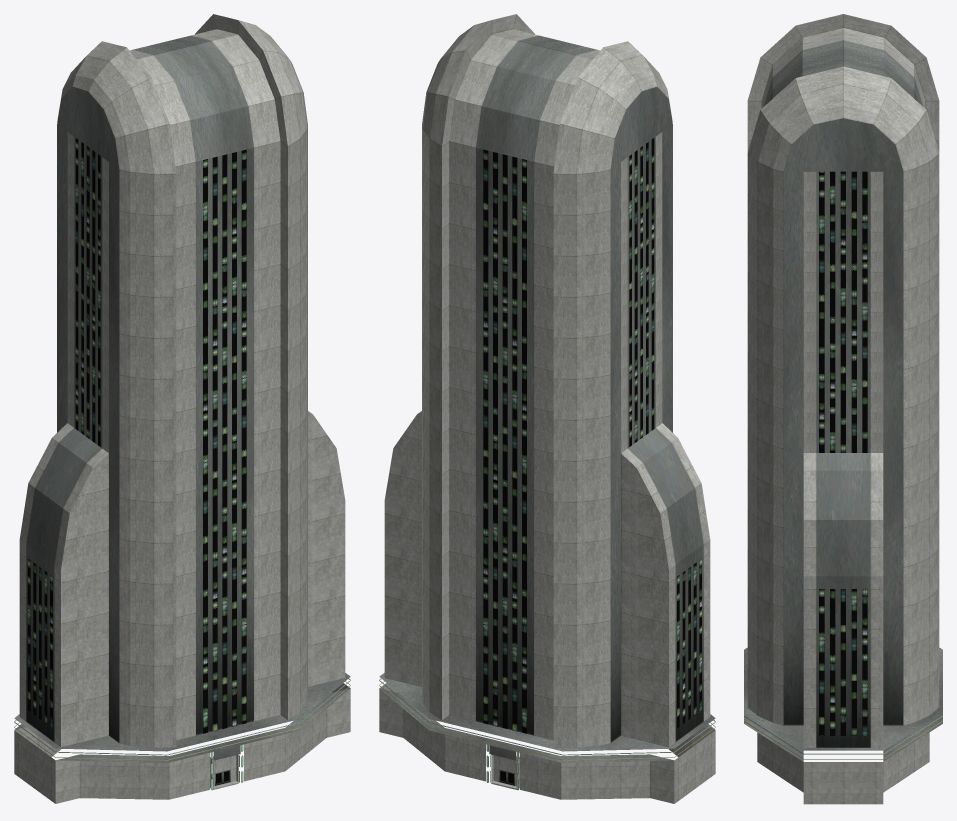
File: thm_corl_skyskraper_s03_l1.fbx
3 views of the same model, side by side, from view 1: azimuth 30°, elevation 25°; view 2: azimuth 150°, elevation 25°; view 3: azimuth 270°, elevation 25° (orthographic). The views are drawn at different scales.
Parts seen in each view (by area): view 1: mesh_node; view 2: mesh_node; view 3: mesh_node.
Part boxes in pixels (box(x1,y1,x2,y2)): mesh_node: box(14, 14, 350, 803); mesh_node: box(379, 14, 715, 803); mesh_node: box(744, 14, 942, 804).
Bounding box in the file's own units: 60.95 × 142 × 36.8.
